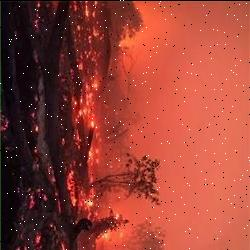fire: (30, 1, 111, 250)
